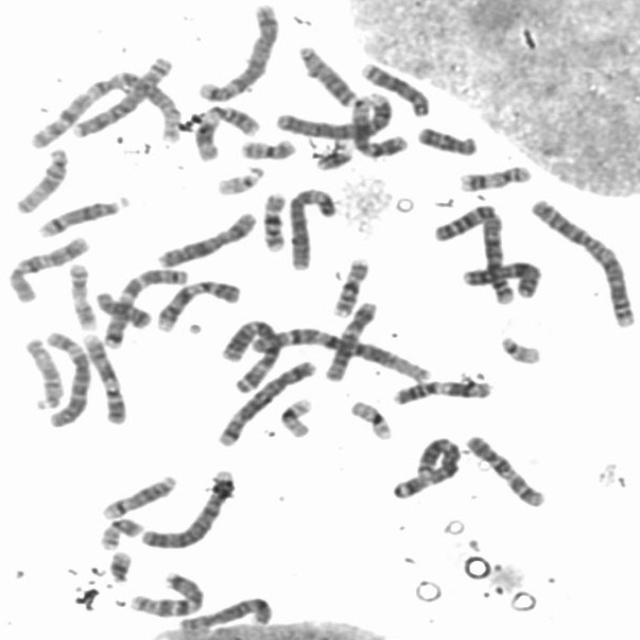A1: (28, 57, 178, 151), (237, 323, 434, 386)
A2: (526, 193, 638, 329), (426, 197, 521, 307)
A3: (387, 432, 464, 502), (216, 314, 282, 394)
B4: (137, 466, 239, 550), (273, 91, 396, 141)
B5: (214, 355, 320, 449), (193, 0, 281, 104)
C10: (460, 432, 548, 509), (3, 233, 92, 304)
C11: (190, 102, 261, 162), (387, 376, 496, 406)
C12: (319, 296, 380, 384), (348, 96, 410, 162)
C6: (40, 328, 96, 430), (283, 185, 340, 272)
C7: (99, 264, 192, 350), (125, 569, 208, 621)
C8: (65, 55, 174, 141), (175, 592, 274, 634)
C9: (152, 276, 244, 334), (78, 331, 128, 426)
D13: (294, 40, 364, 110), (357, 59, 432, 118)
D14: (34, 193, 134, 238), (96, 471, 180, 522)
D15: (11, 145, 70, 216), (21, 334, 66, 412)
E16: (327, 252, 371, 318), (258, 188, 289, 253)
E17: (453, 160, 535, 193), (64, 259, 98, 331)
E18: (92, 288, 153, 330), (413, 123, 479, 158)
F19: (345, 396, 394, 442), (275, 394, 315, 439)
F20: (96, 515, 144, 551), (236, 134, 298, 161)
G21: (310, 138, 352, 172), (105, 548, 134, 585)
G22: (212, 162, 266, 198), (494, 331, 544, 366)
X: (152, 208, 259, 269), (456, 255, 544, 301)
